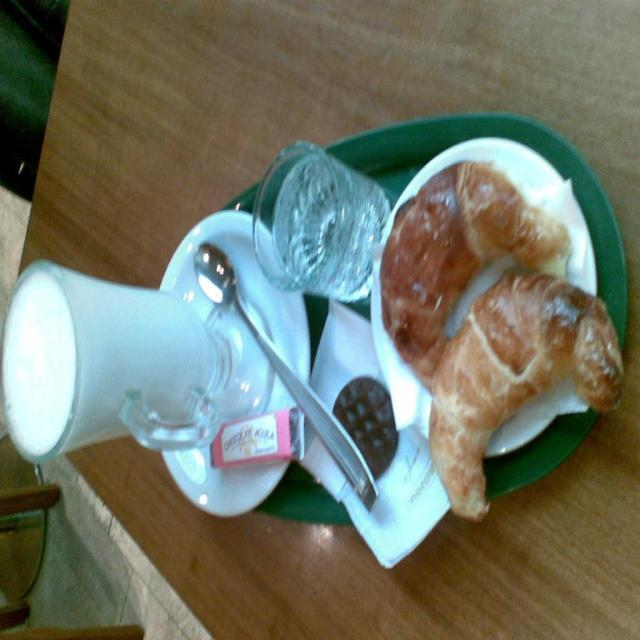Croissant: (432, 272, 622, 518)
